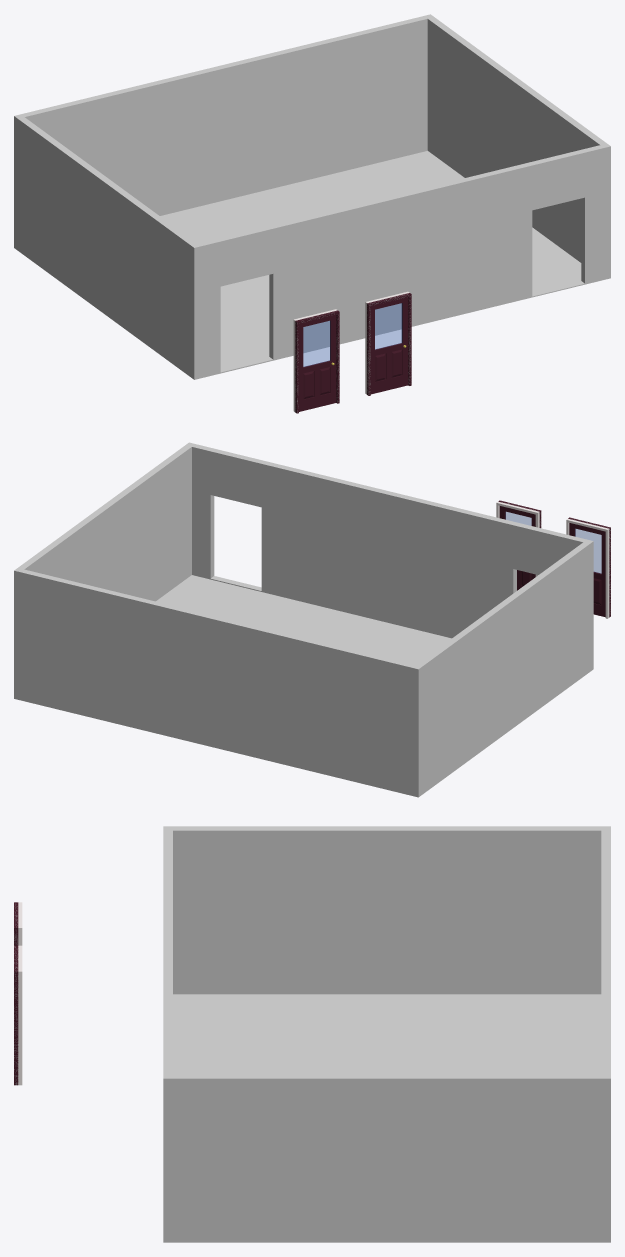
The picture shows the model from 3 angles, top to bottom: view 1: azimuth 30°, elevation 25°; view 2: azimuth 150°, elevation 25°; view 3: azimuth 270°, elevation 25°; orthographic projection. The views are drawn at different scales.
Visible parts, largest first — view 1: SketchUp (×4), group_4 (×2), group_3 (×2), group_1 (×2); view 2: SketchUp (×3), group_4 (×2), group_2; view 3: SketchUp (×2), group_1, group_2.
Boxes of the visible parts, <box> form: SketchUp (×4): <box>14,14,610,379</box>; group_4 (×2): <box>299,297,408,411</box>; group_3 (×2): <box>303,303,401,366</box>; group_1 (×2): <box>295,293,411,413</box>; SketchUp (×3): <box>14,442,593,797</box>; group_4 (×2): <box>499,506,605,617</box>; group_2: <box>566,518,609,618</box>; SketchUp (×2): <box>163,826,610,1242</box>; group_1: <box>14,945,18,1085</box>; group_2: <box>18,945,22,1085</box>.
Size of the model in its own units: 390 by 390 by 118.
